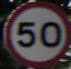Speed limit: (6, 4, 67, 61)
